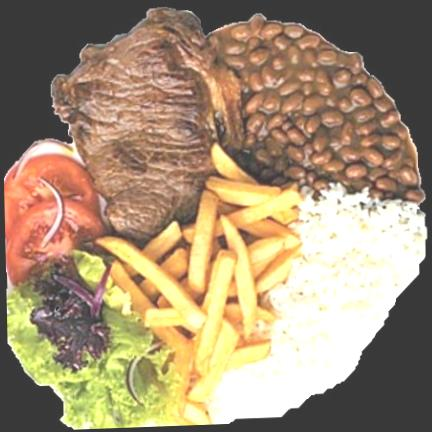beans: (210, 14, 423, 200)
meat: (55, 8, 241, 243)
potato: (97, 142, 305, 426)
rice: (208, 188, 421, 424)
salad: (7, 249, 182, 429)
tomato: (4, 162, 103, 281)
